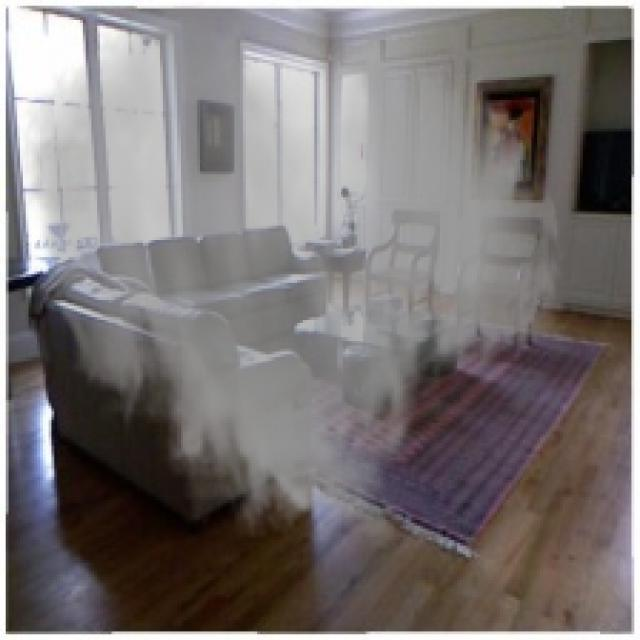Smoke: (17, 0, 566, 552)
